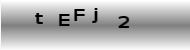2: (117, 14, 129, 28)
E: (57, 13, 70, 26)
F: (73, 8, 85, 21)
j: (91, 7, 98, 23)
t: (33, 11, 44, 24)
